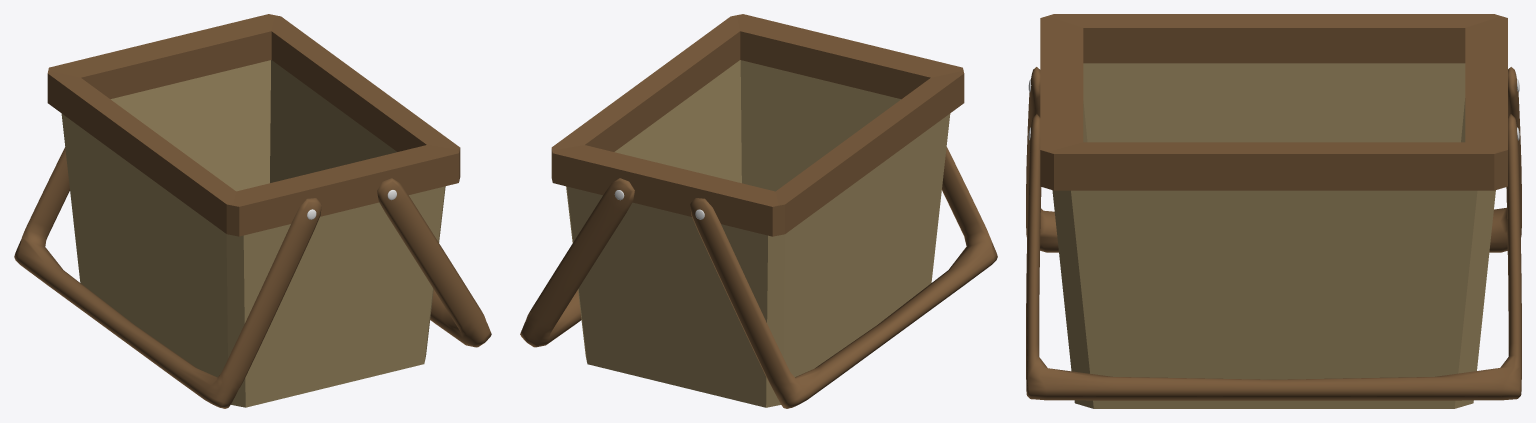
File: cesta_picnic.fbx
3 views of the same model, side by side, from view 1: azimuth 30°, elevation 25°; view 2: azimuth 150°, elevation 25°; view 3: azimuth 270°, elevation 25° (orthographic). The views are drawn at different scales.
Parts seen in each view (by area): view 1: Cube, Cube.001, Cube.003, Cube.002; view 2: Cube, Cube.001, Cube.003, Cube.002; view 3: Cube, Cube.001, Cube.002, Cube.003.
Boxes of the visible parts, x1,y1,x2,y2 form: Cube: (61, 60, 445, 407); Cube.001: (47, 14, 460, 236); Cube.003: (14, 147, 321, 408); Cube.002: (377, 178, 491, 347); Cube: (566, 60, 950, 407); Cube.001: (551, 14, 964, 236); Cube.003: (690, 147, 997, 408); Cube.002: (520, 178, 634, 347); Cube: (1052, 63, 1495, 408); Cube.001: (1040, 14, 1507, 190); Cube.002: (1026, 114, 1521, 400); Cube.003: (1026, 67, 1521, 252).
Size of the model in its own units: 291 by 209 by 354.
